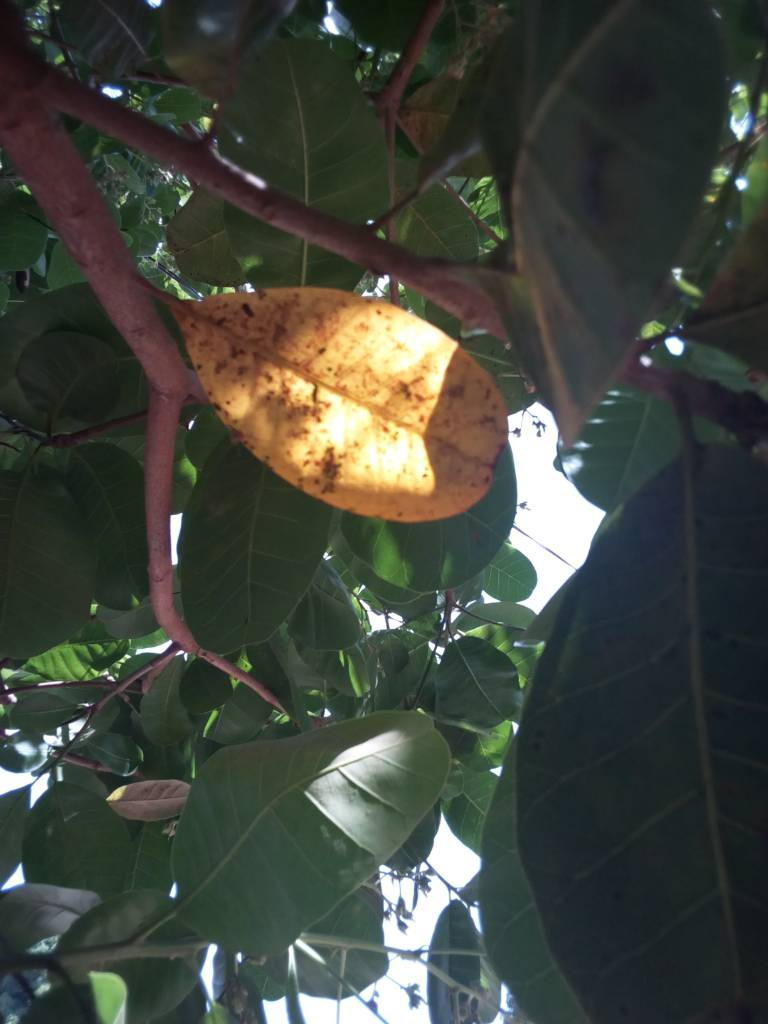Anthracnose: (527, 432, 768, 1024), (185, 286, 508, 524)
